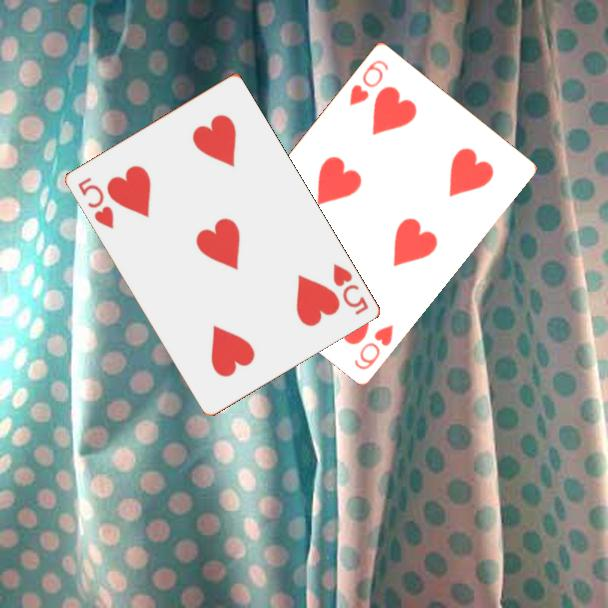h05: (74, 173, 116, 232), (329, 260, 371, 318)
h06: (345, 56, 391, 109), (350, 320, 396, 372)
